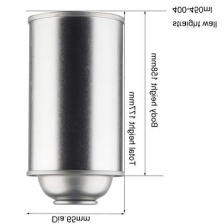aerosol_cans: (23, 7, 128, 210)
